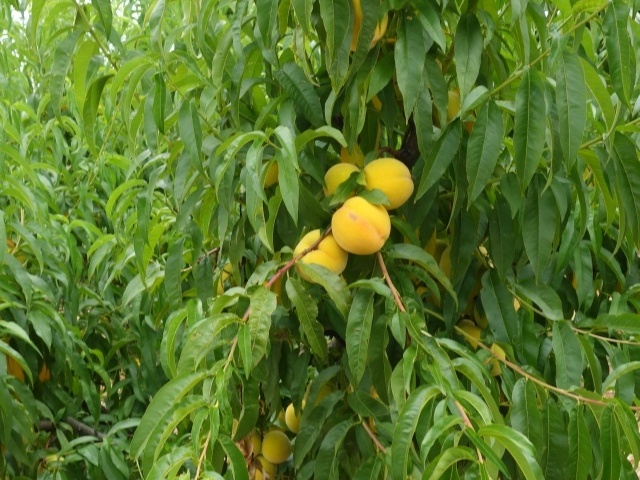peach: (327, 191, 395, 258), (287, 221, 352, 287), (360, 153, 423, 215), (318, 159, 368, 208), (278, 397, 319, 436), (259, 428, 296, 466)
